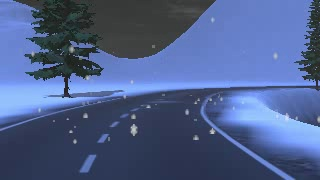Lane: (1, 85, 308, 179)
